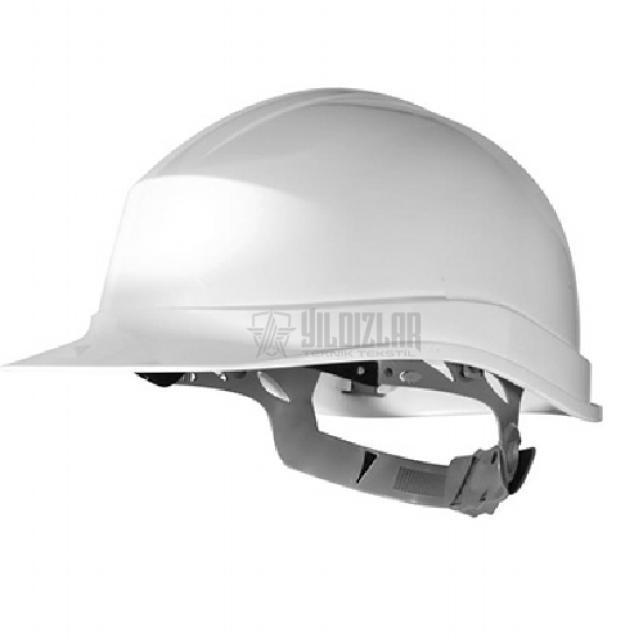safety_helmet: (6, 88, 605, 490)
